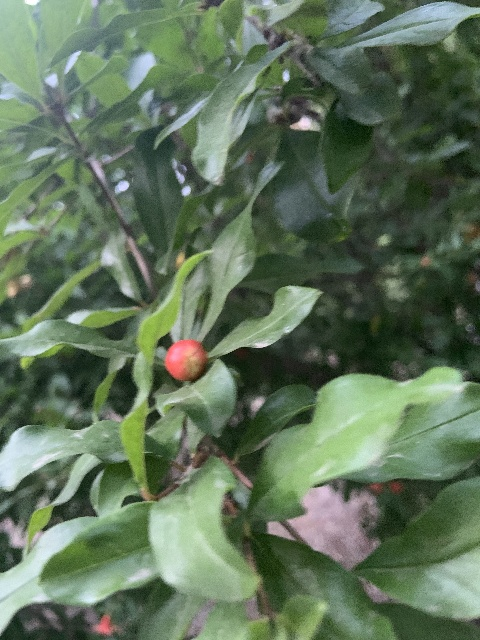bud: (165, 338, 208, 382)
flower: (91, 614, 117, 636)
